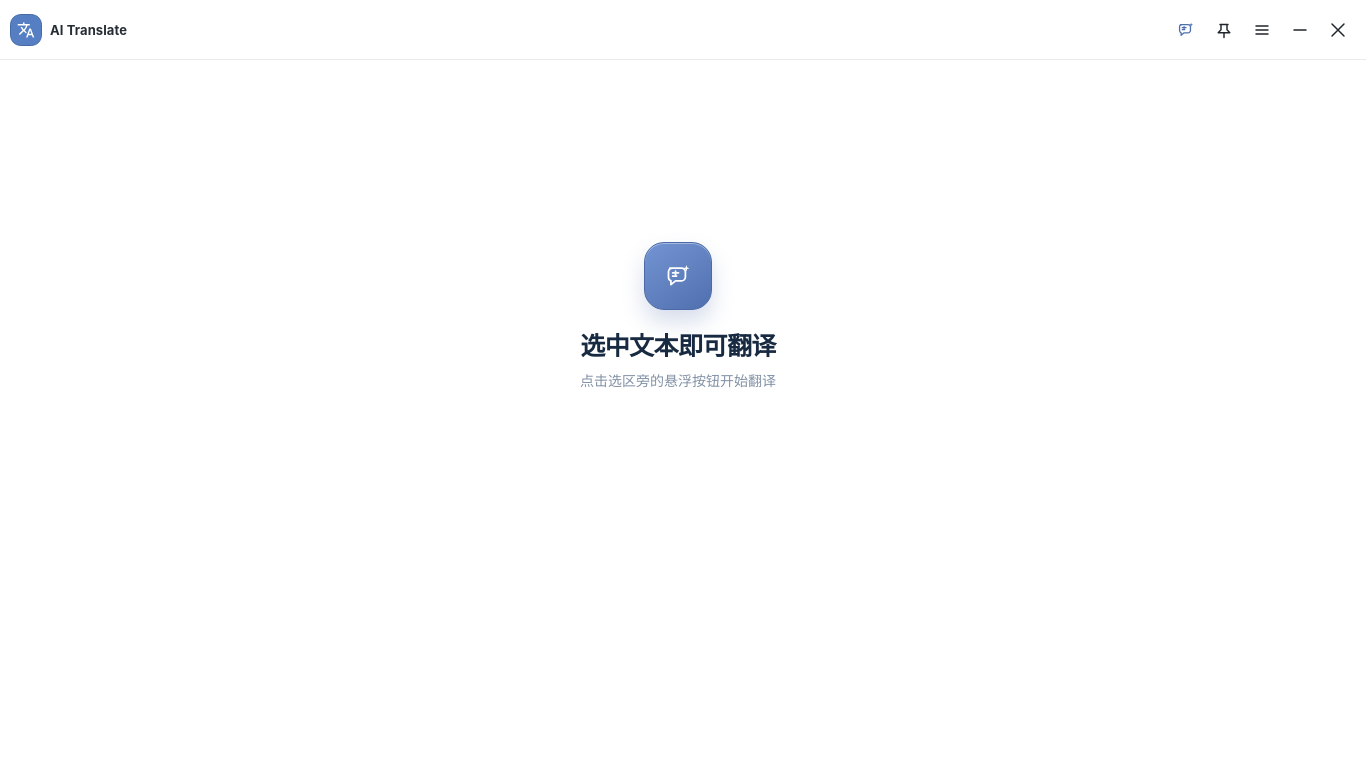
keeps healthy quick models when another provider config cannot be read
The width and height of the screenshot is (1366, 768).
Click the button named "快速翻译": (1186, 30) [1170,14,1202,46]
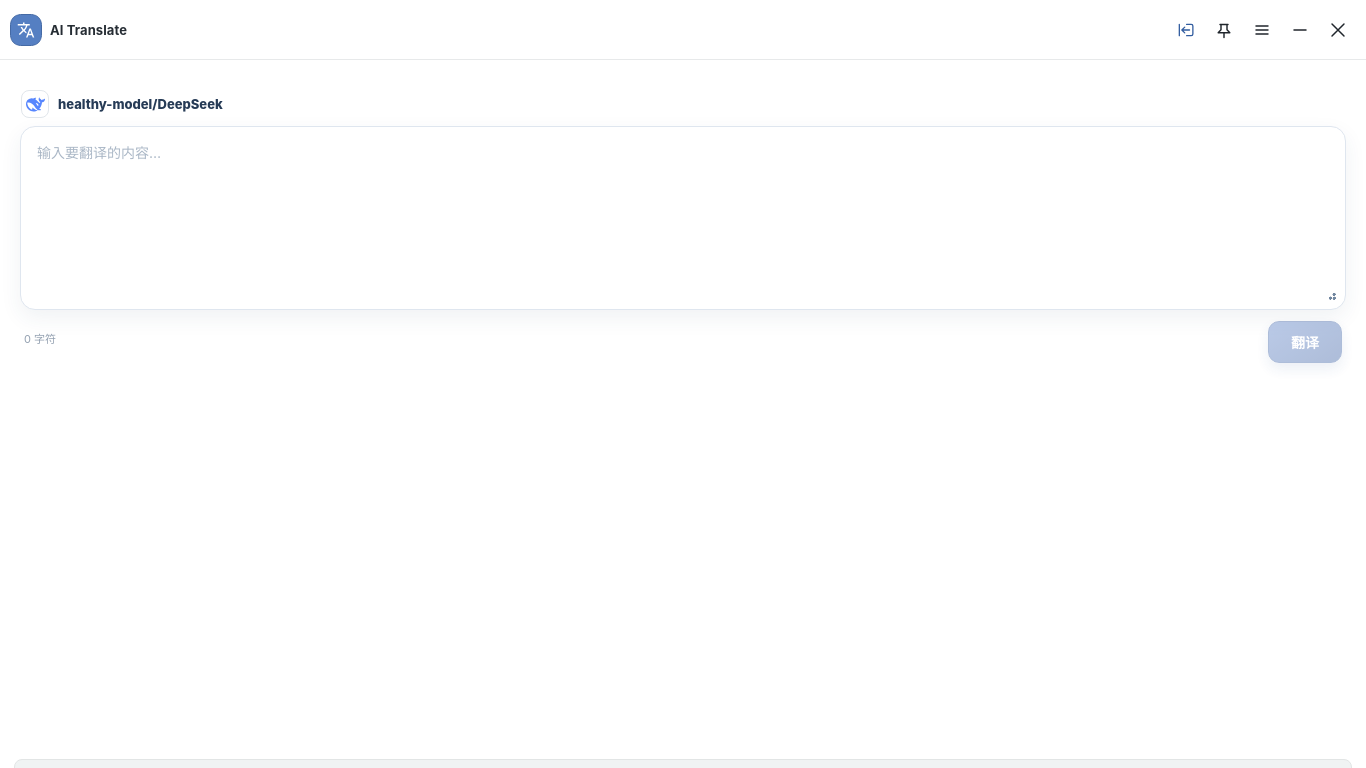
Now the button with aria-label "选择翻译模型" shows "healthy-model"
Click the button with aria-label "选择翻译模型": (122, 104) [20,82,224,126]
(page scrolled)
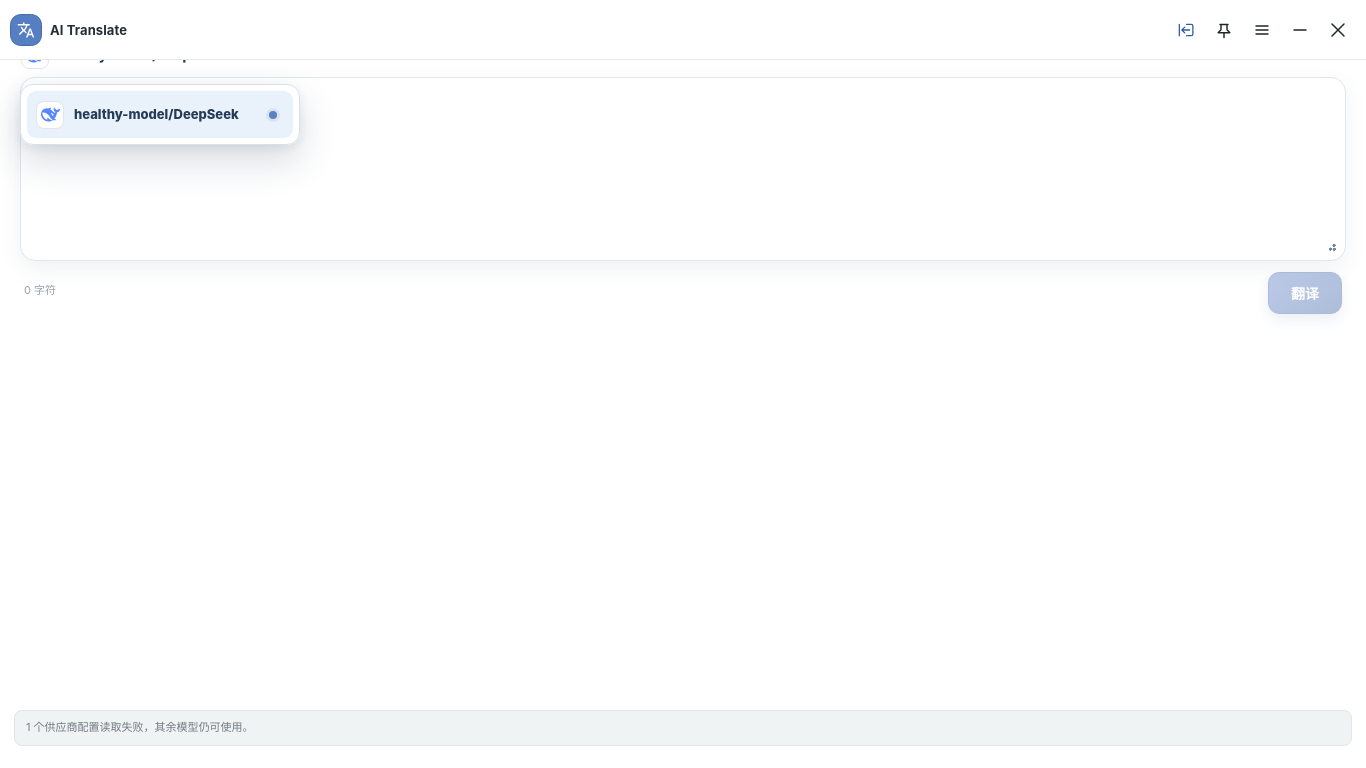
Now the number of options is 1, box [27,91,293,138]
Now the text "1 个供应商配置读取失败，其余模型仍可使用。" is shown, box [14,710,1352,746]
